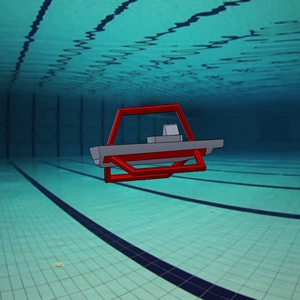submarine: (85, 102, 230, 189)
